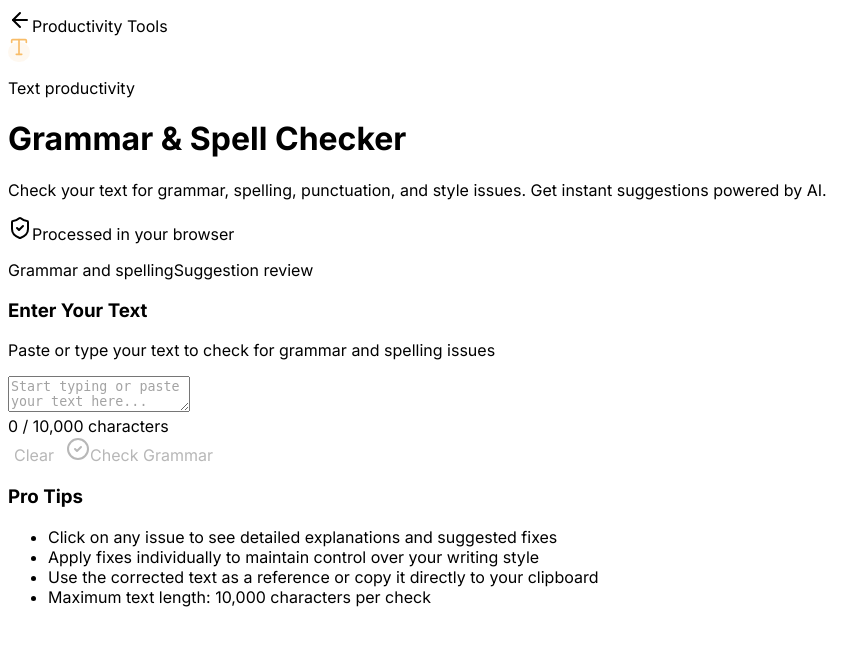
Test: Grammar Checker Page › Grammar Check › handles API errors gracefully
Type "Test text" into the text box with placeholder "Start typing or paste your text here...".
click(99, 394); type("Test text")  # box [8,376,190,412]
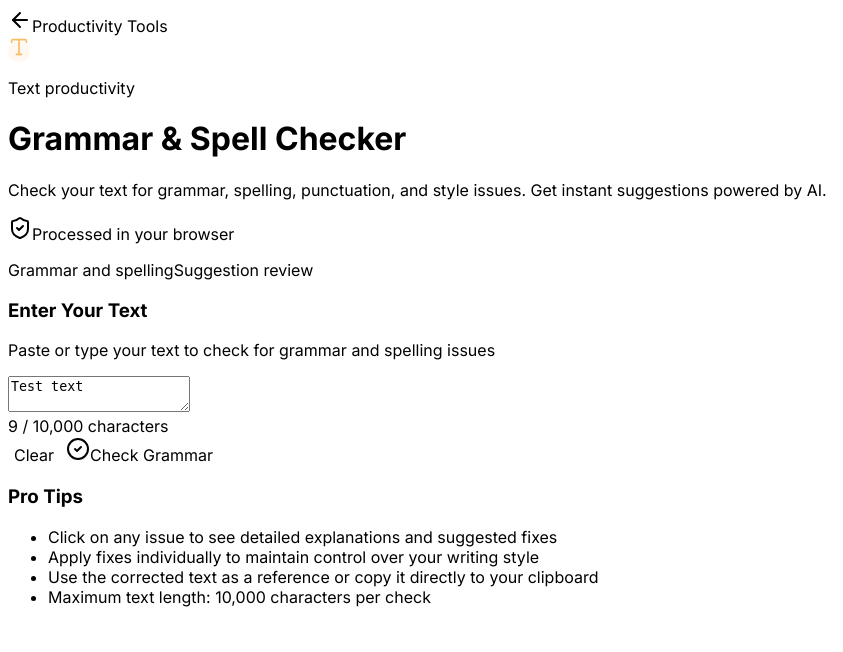
Click the button "Check Grammar".
click(140, 451)  # box [60,436,219,466]
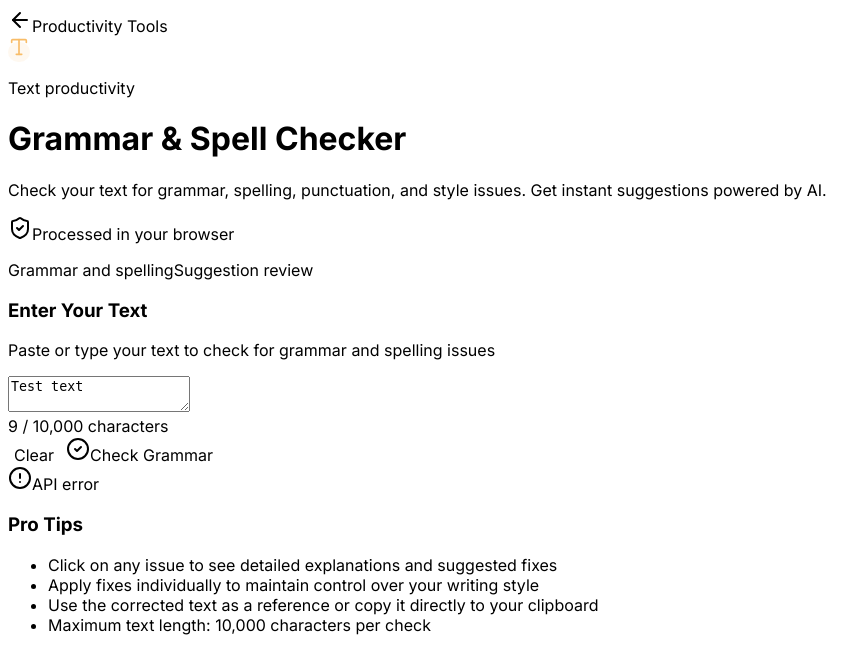
Expected: the text "API error" is shown, [32,474,99,494]
